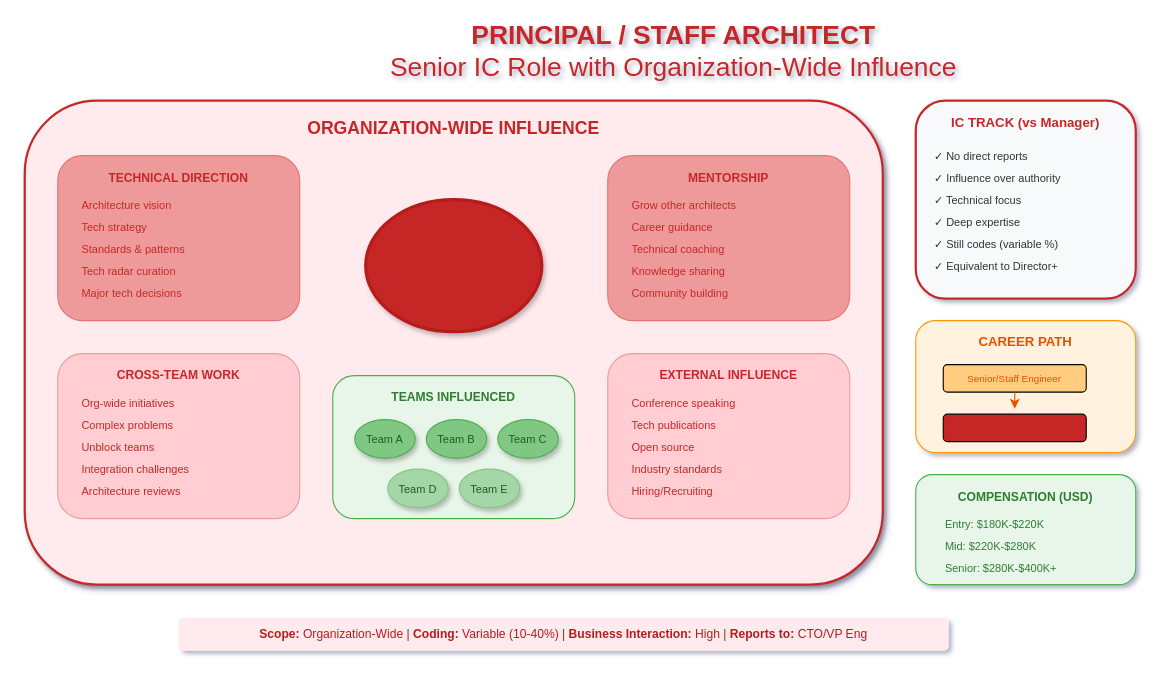
Some shapes in this 1162 by 675 pixel diagram are drawn without their labels. Each missing label, with the centre of its shape:
"PRINCIPAL/ STAFF ARCHITECT Senior IC" goes at (454,266).
"Principal/Staff Arch" goes at (1014,427).
